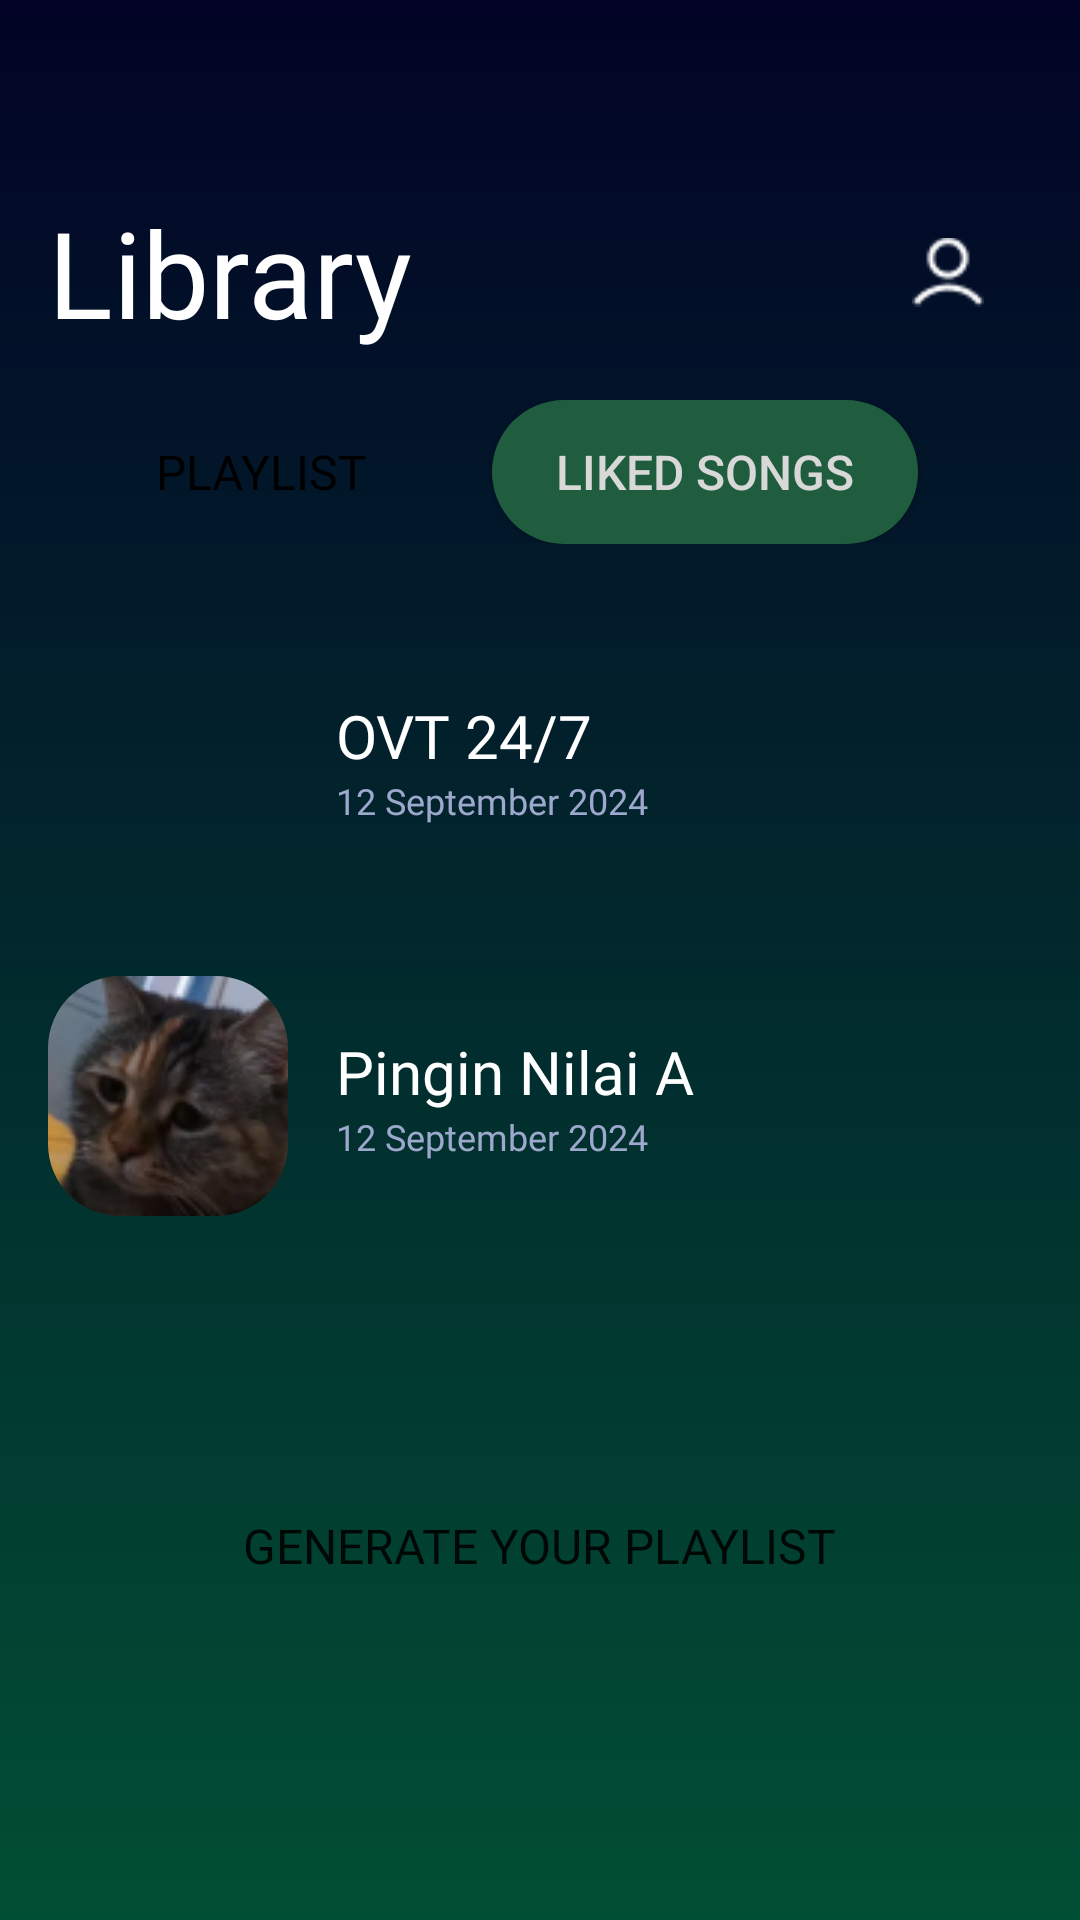

Icons on this 1080w x 1920h Android screen, each with the point to tap as (x,y):
profile: (948,272)
